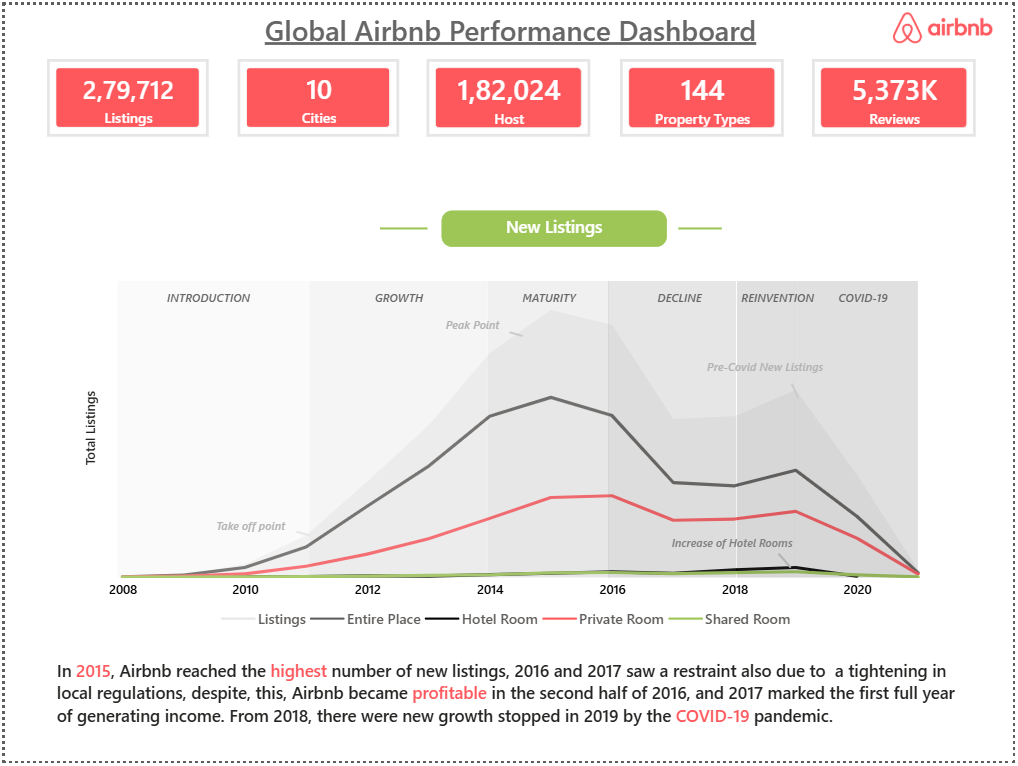

What the dashboard file says about the page in this screenshot:
{"tool":"powerbi","page":{"name":"Overview","canvas":[960,720],"ordinal":0},"visuals":[{"type":"textbox","box":[221.4,0,520,51.4],"z":0},{"type":"image","box":[845.2,5.6,94.8,32.4],"z":1000},{"type":"cardVisual","fields":{"Data":["Count(Listings.city)"]},"box":[221,52,154,74],"z":2000},{"type":"cardVisual","fields":{"Data":["CountNonNull(Listings.listing_id)"]},"box":[40,52,154,74],"z":3000},{"type":"cardVisual","fields":{"Data":["Count(Reviews.review_id)"]},"box":[768,52,156,74],"z":4000},{"type":"cardVisual","fields":{"Data":["Count(Listings.property_type)"]},"box":[585,52,156,74],"z":5000},{"type":"cardVisual","fields":{"Data":["Count(Listings.host_id)"]},"box":[402,52,156,74],"z":6000},{"type":"lineChart","fields":{"Category":["Listings.host_since.Variation.Date Hierarchy.Year"],"Y":["CountNonNull(Listings.listing_id)","Listings.Entire Place","Listings.Hotel Room","Listings.Private Room","Listings.Shared Room"]},"box":[71.5,247,817,356.6],"z":7000},{"type":"textbox","box":[415.3,196.4,214.9,34.5],"z":8000},{"type":"shape","box":[356.9,184.4,45.1,57.1],"z":9000},{"type":"shape","box":[640.8,184.4,41.1,57.1],"z":10000},{"type":"shape","box":[107.5,262.7,183.1,282.6],"z":11000},{"type":"shape","box":[574.5,262.7,122.1,282.6],"z":12000},{"type":"shape","box":[696.6,262.7,54.4,282.6],"z":13000},{"type":"shape","box":[751,262.7,118.1,282.6],"z":14000},{"type":"shape","box":[460.4,262.7,115.4,282.6],"z":15000},{"type":"shape","box":[290.6,262.7,169.8,282.6],"z":16000},{"type":"textbox","box":[127.3,262.7,133.6,34.5],"z":17000},{"type":"textbox","box":[309.1,262.7,133.6,34.5],"z":18000},{"type":"textbox","box":[451.8,262.7,133.6,34.5],"z":19000},{"type":"textbox","box":[575.5,262.7,133.6,34.5],"z":20000},{"type":"textbox","box":[681.8,262.7,109.1,34.5],"z":21000},{"type":"textbox","box":[759.1,262.7,117.3,34.5],"z":22000},{"type":"textbox","box":[167.3,480,133.6,31.8],"z":23000},{"type":"textbox","box":[379.1,289.1,133.6,31.8],"z":24000},{"type":"textbox","box":[625.5,495.5,133.6,31.8],"z":25000},{"type":"textbox","box":[657.3,328.2,133.6,31.8],"z":26000},{"type":"shape","box":[277.3,496.4,13.6,15.5],"z":27000},{"type":"shape","box":[480,305.5,13.6,15.5],"z":28000},{"type":"shape","box":[745.5,360,13.6,15.5],"z":29000},{"type":"shape","box":[736.4,520.9,13.6,15.5],"z":30000},{"type":"textbox","box":[43.8,617,881,91.5],"z":31000}]}

Visuals, with their boxes in screenshot pixels (x1, y1, x2, y2), scaled from the page's 960x720 canvas onto the 1018x766 screenshot:
textbox: box(235, 0, 786, 55)
image: box(896, 6, 997, 40)
cardVisual - Count(Listings.city): box(234, 55, 398, 134)
cardVisual - CountNonNull(Listings.listing_id): box(42, 55, 206, 134)
cardVisual - Count(Reviews.review_id): box(814, 55, 980, 134)
cardVisual - Count(Listings.property_type): box(620, 55, 786, 134)
cardVisual - Count(Listings.host_id): box(426, 55, 592, 134)
lineChart - Listings.host_since.Variation.Date Hierarchy.Year x CountNonNull(Listings.listing_id): box(76, 263, 942, 642)
textbox: box(440, 209, 668, 246)
shape: box(378, 196, 426, 257)
shape: box(680, 196, 723, 257)
shape: box(114, 279, 308, 580)
shape: box(609, 279, 739, 580)
shape: box(739, 279, 796, 580)
shape: box(796, 279, 922, 580)
shape: box(488, 279, 611, 580)
shape: box(308, 279, 488, 580)
textbox: box(135, 279, 277, 316)
textbox: box(328, 279, 469, 316)
textbox: box(479, 279, 621, 316)
textbox: box(610, 279, 752, 316)
textbox: box(723, 279, 839, 316)
textbox: box(805, 279, 929, 316)
textbox: box(177, 511, 319, 544)
textbox: box(402, 308, 544, 341)
textbox: box(663, 527, 805, 561)
textbox: box(697, 349, 839, 383)
shape: box(294, 528, 308, 545)
shape: box(509, 325, 523, 342)
shape: box(791, 383, 805, 399)
shape: box(781, 554, 795, 571)
textbox: box(46, 656, 981, 754)
